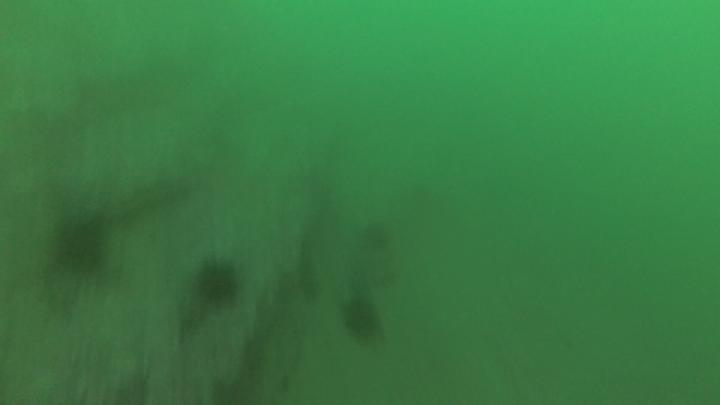echinus: (59, 216, 104, 279), (194, 256, 239, 315), (343, 295, 380, 342)
